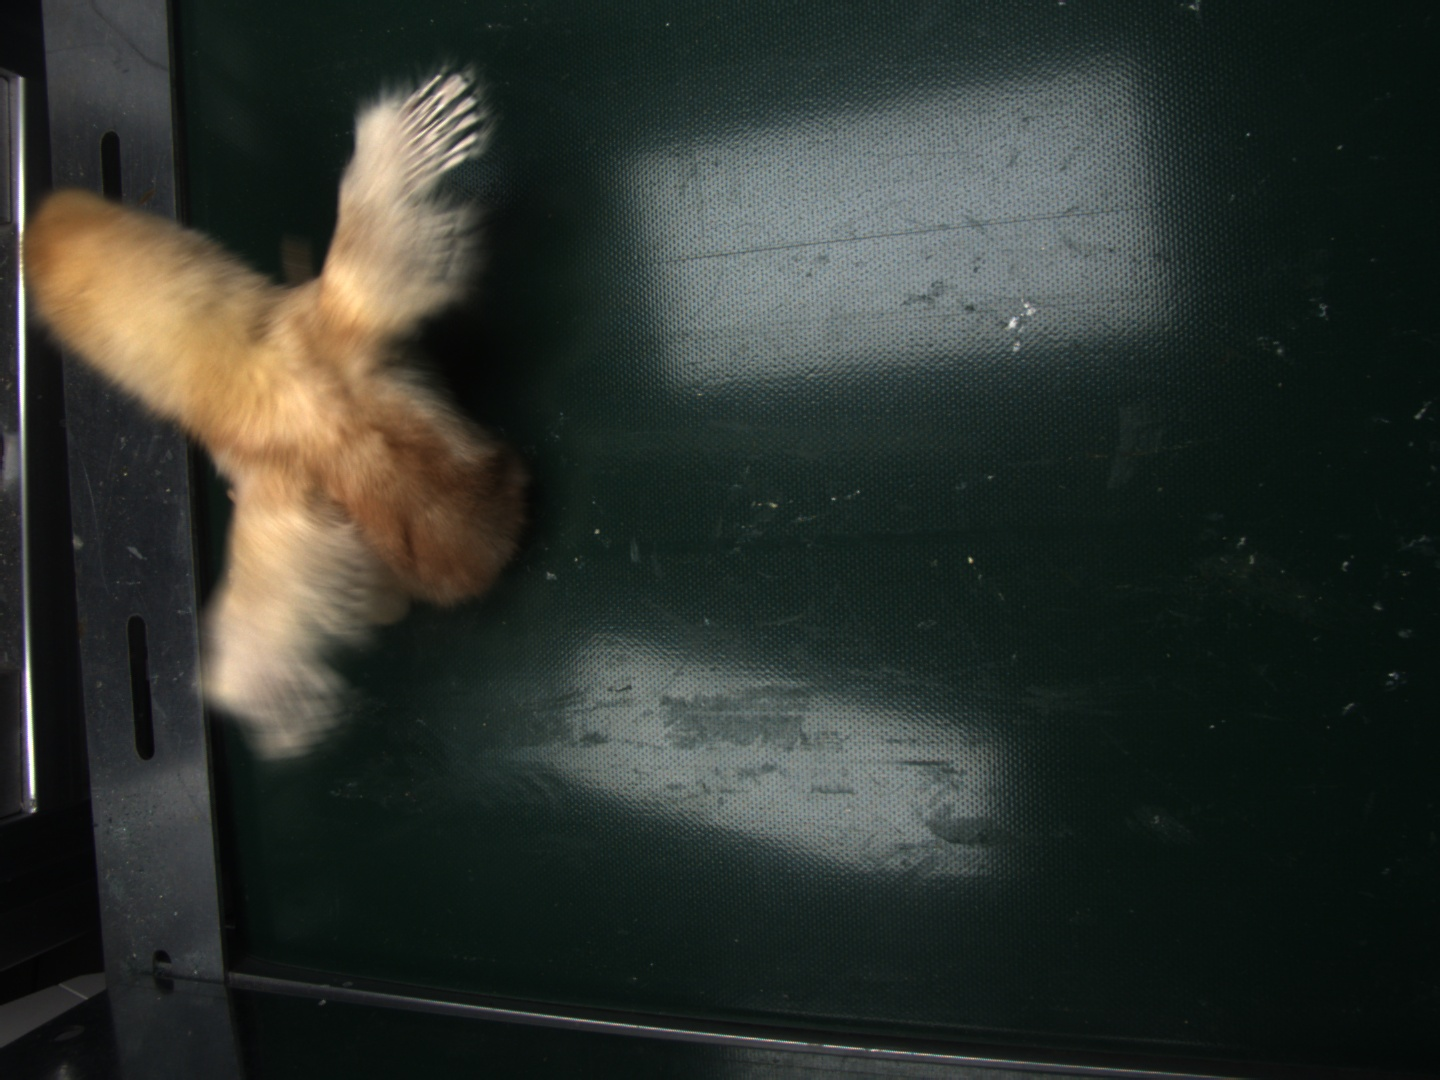female: (393, 65, 485, 180)
